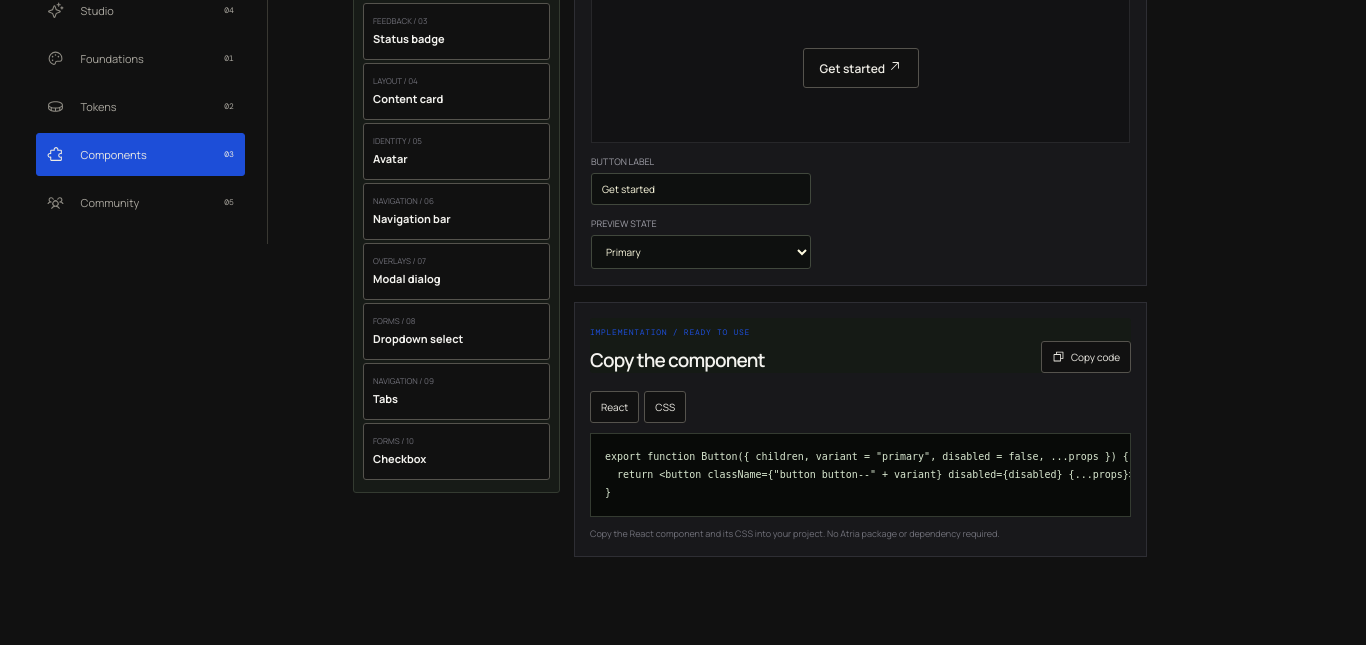
Test: Dark-mode component interactions › keeps the modal dialog keyboard trapping and closing functional
(page scrolled)
Click the button "OVERLAYS / 07 Modal dialog" at (457, 272), box [363,243,550,300]
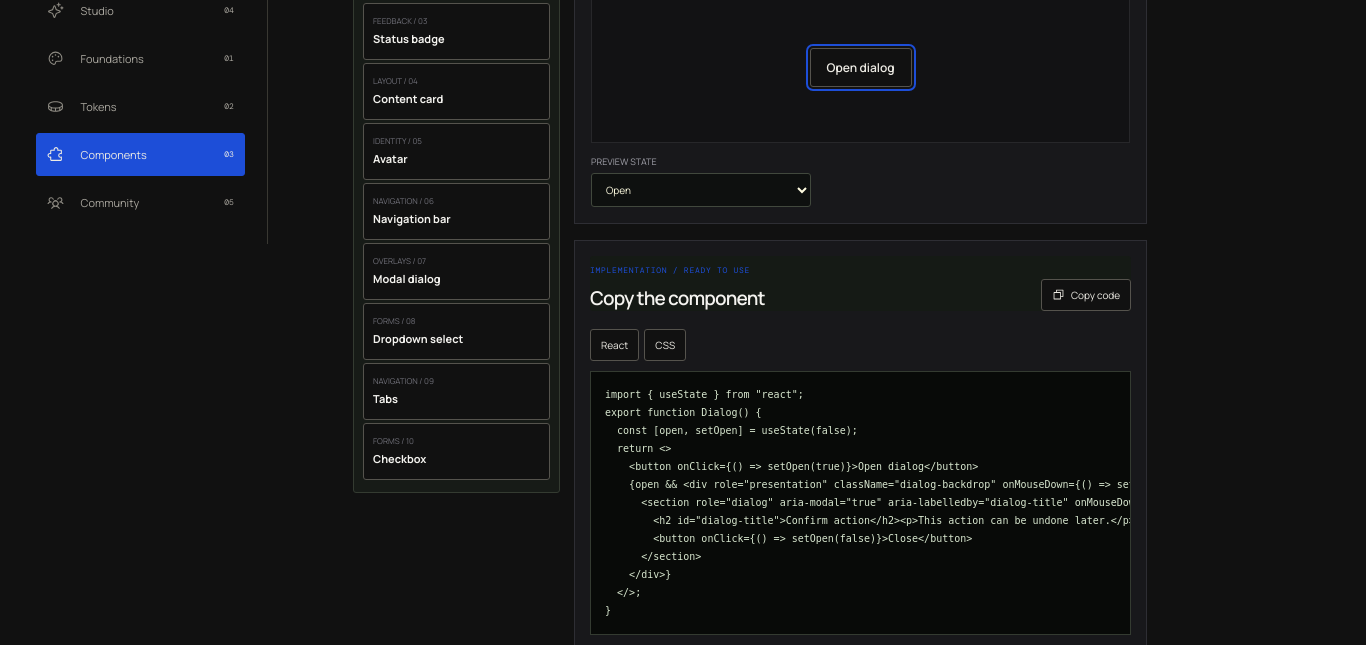
Click the button "Open dialog" at (860, 68), box [810,48,912,87]
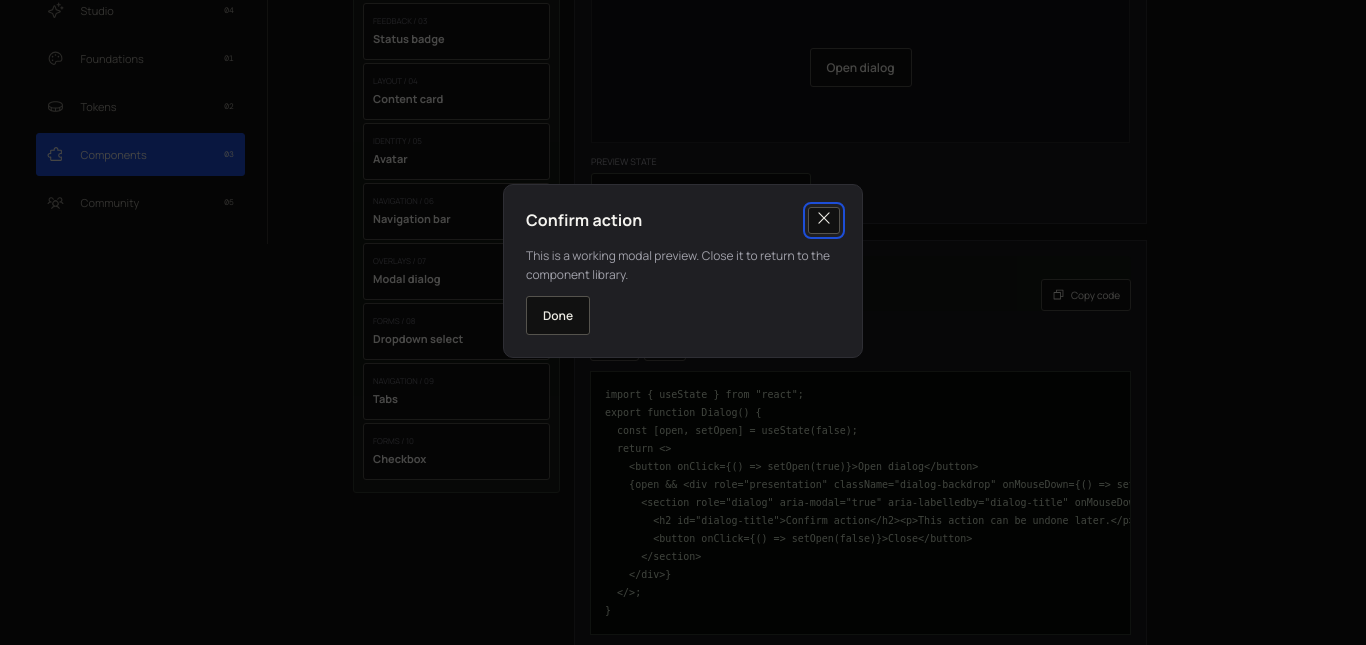
Expected: the dialog is shown
Press Escape in the dialog, box [503,184,863,358]
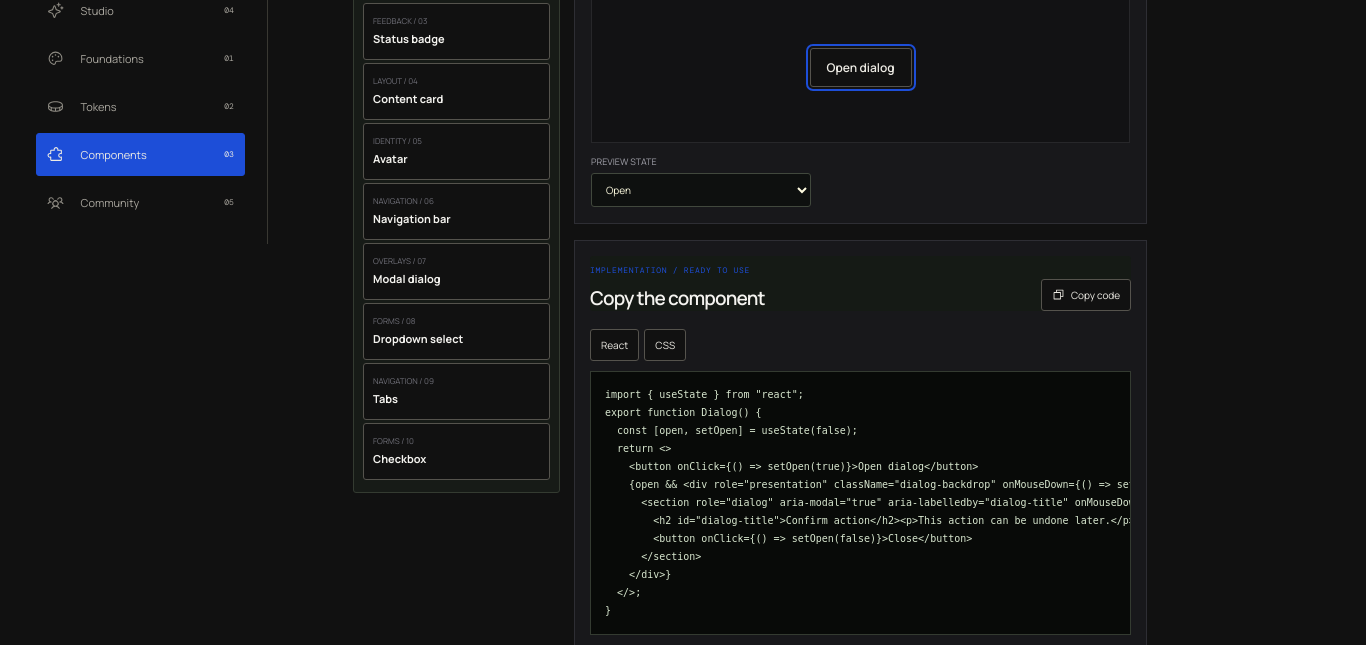
Expected: the dialog is gone
